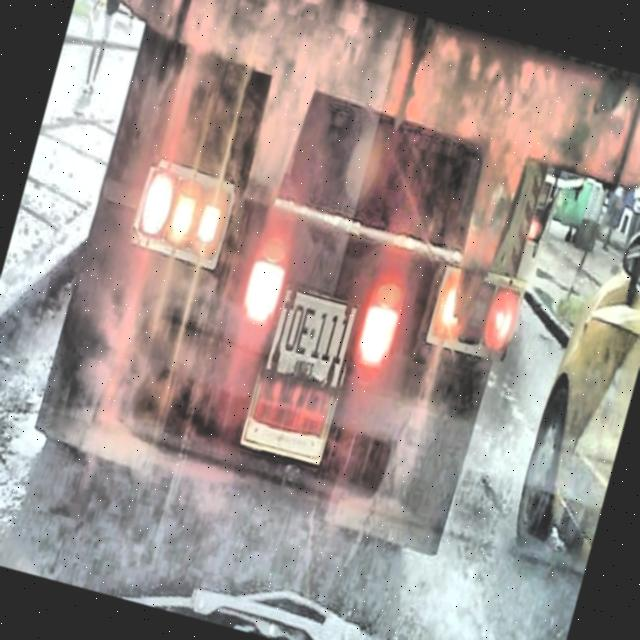plate: (265, 288, 358, 389)
